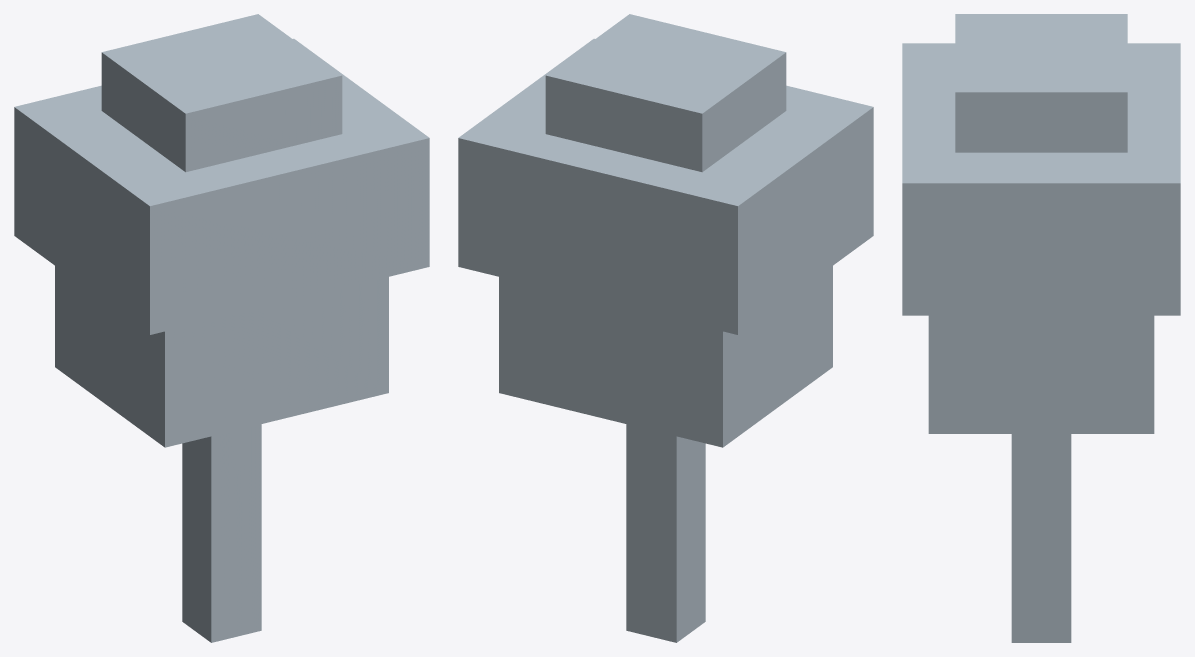
Rendered from shadow-tree.glb.
3 renders of one model, left to right at view 1: azimuth 30°, elevation 25°; view 2: azimuth 150°, elevation 25°; view 3: azimuth 270°, elevation 25°, orthographic. The views are drawn at different scales.
Bounding box in the file's own units: 50 × 96 × 42.
